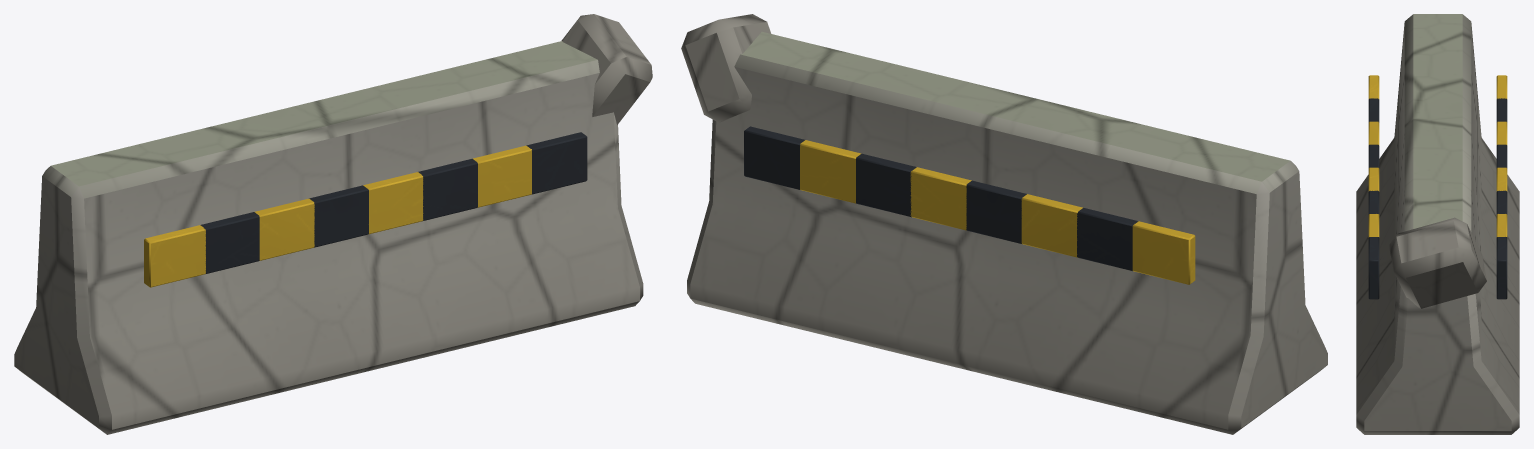
File: concrete_barrier.glb
3 views of the same model, side by side, from view 1: azimuth 30°, elevation 25°; view 2: azimuth 150°, elevation 25°; view 3: azimuth 270°, elevation 25° (orthographic). The views are drawn at different scales.
Visible parts, largest first — view 1: concrete_barrier; view 2: concrete_barrier; view 3: concrete_barrier.
Part boxes in pixels (x1=…): concrete_barrier: x1=14, y1=14, x2=652, y2=434; concrete_barrier: x1=681, y1=14, x2=1327, y2=434; concrete_barrier: x1=1356, y1=14, x2=1519, y2=434.
Size of the model in its own units: 2.12 by 0.8847 by 0.6.
4 materials, 4 textured.
